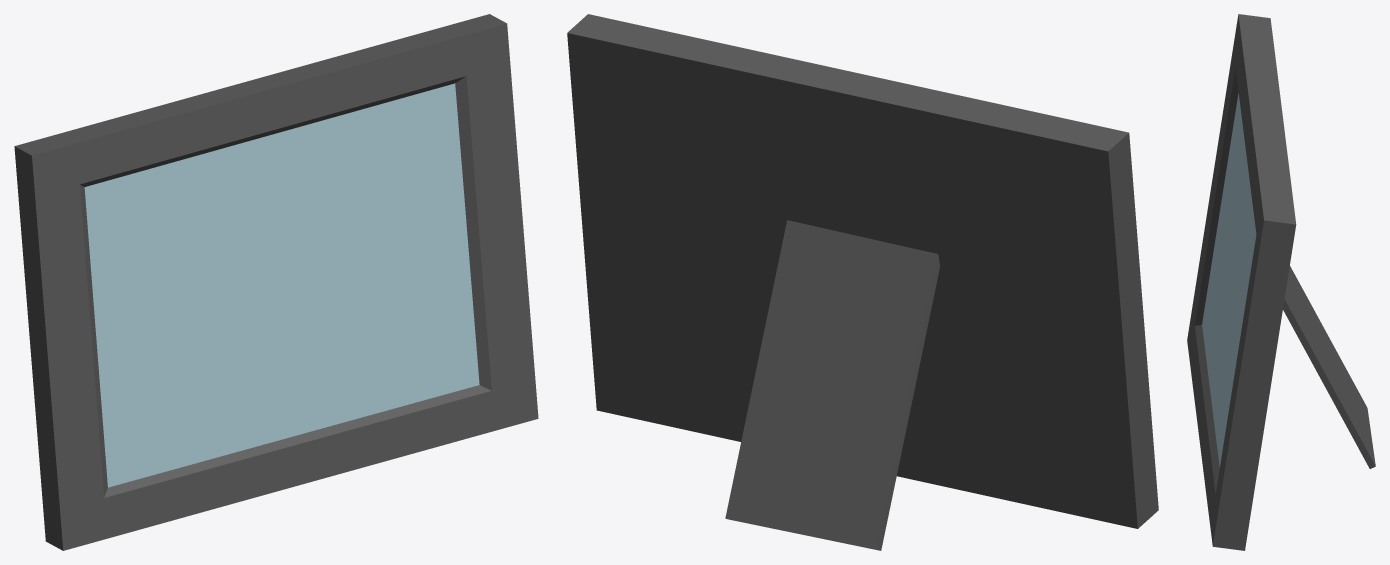
File: Photoframe_3.fbx
3 renders of one model, left to right at view 1: azimuth 30°, elevation 25°; view 2: azimuth 150°, elevation 25°; view 3: azimuth 270°, elevation 25°, orthographic. The views are drawn at different scales.
Parts seen in each view (by area): view 1: Photoframe_3; view 2: Photoframe_3; view 3: Photoframe_3.
Boxes of the visible parts, x1=… form: Photoframe_3: x1=14, y1=14, x2=538, y2=550; Photoframe_3: x1=567, y1=14, x2=1158, y2=550; Photoframe_3: x1=1187, y1=14, x2=1375, y2=550.
Bounding box in the file's own units: 20.81 × 7.93 × 15.35.
